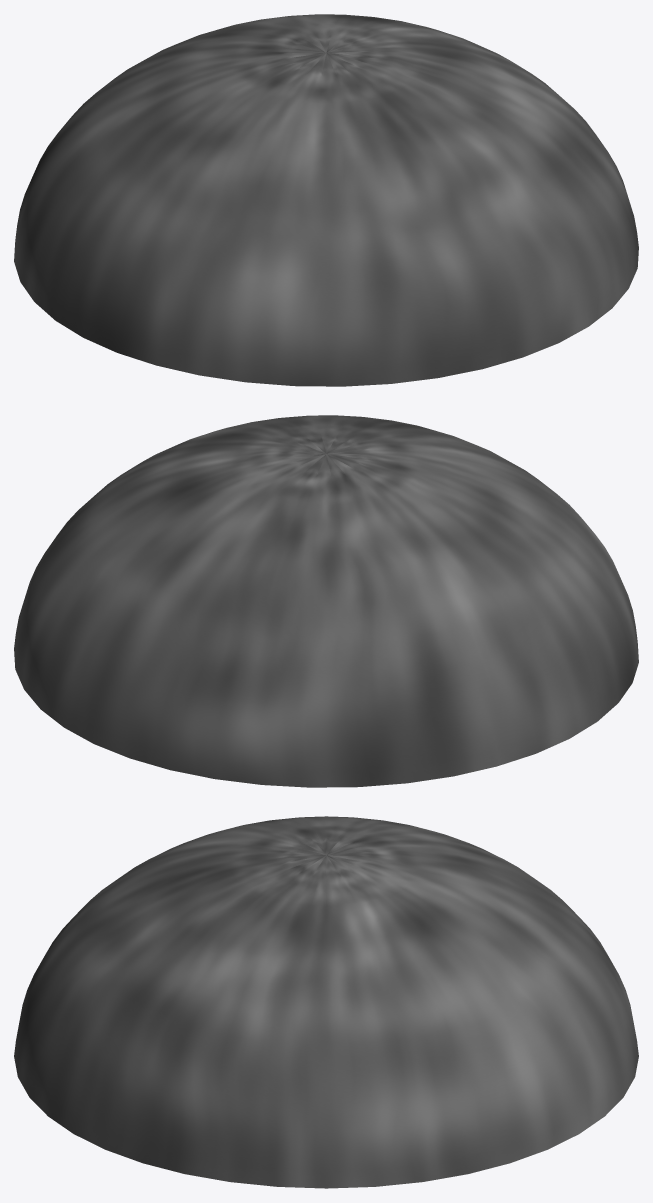
File: explosiveSphere.fbx
3 views of the same model, one above another, from view 1: azimuth 30°, elevation 25°; view 2: azimuth 150°, elevation 25°; view 3: azimuth 270°, elevation 25° (orthographic).
Visible parts, largest first — view 1: pSphere1; view 2: pSphere1; view 3: pSphere1.
Boxes of the visible parts, box(x1,y1,x2,y2) form: pSphere1: box(14, 14, 638, 386); pSphere1: box(14, 415, 638, 787); pSphere1: box(14, 816, 638, 1188).
Bounding box in the file's own units: 38.22 × 13.58 × 38.22.
